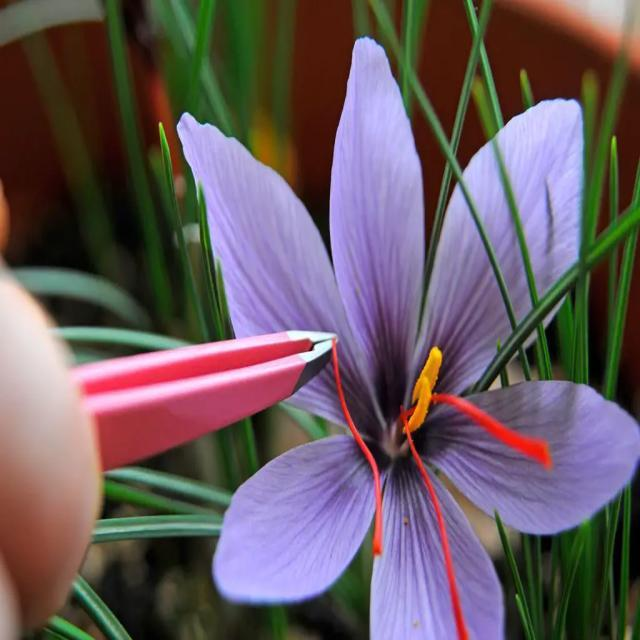Flower: (177, 33, 640, 640)
stigma: (405, 418, 469, 640), (322, 336, 389, 544), (434, 387, 551, 478)
